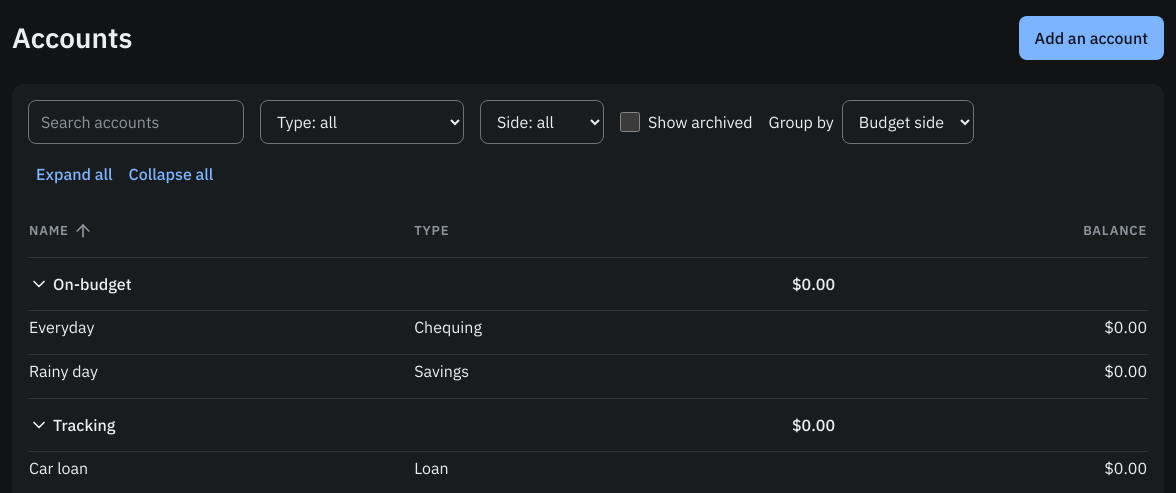
Test case: Accounts filters › says so when nothing matches
Check: the text "Everyday" is shown, box [28,310,413,354]
Type "zzz" into the field labelled "Search accounts" at (136, 122), box [28,100,244,144]
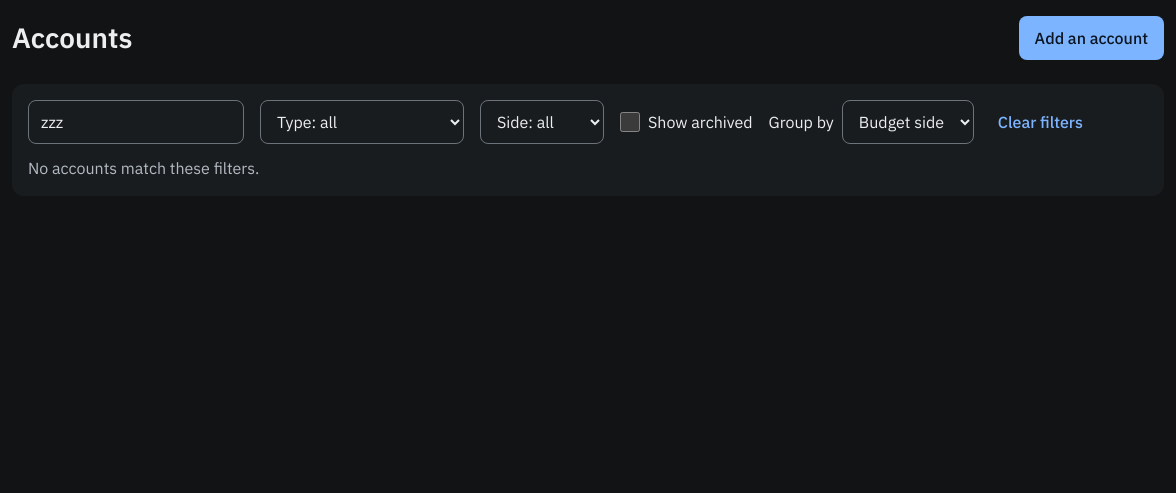
Check: the text "No accounts match these filters." is shown, box [28,158,259,178]
